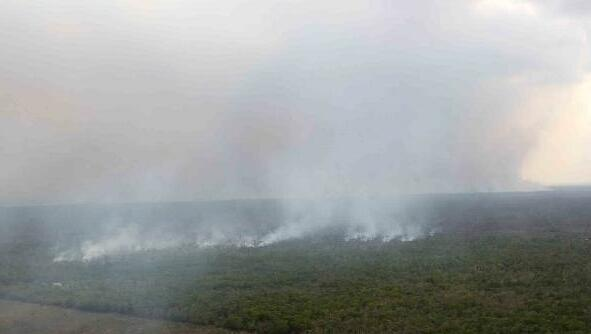yanwu: (1, 1, 575, 252)
